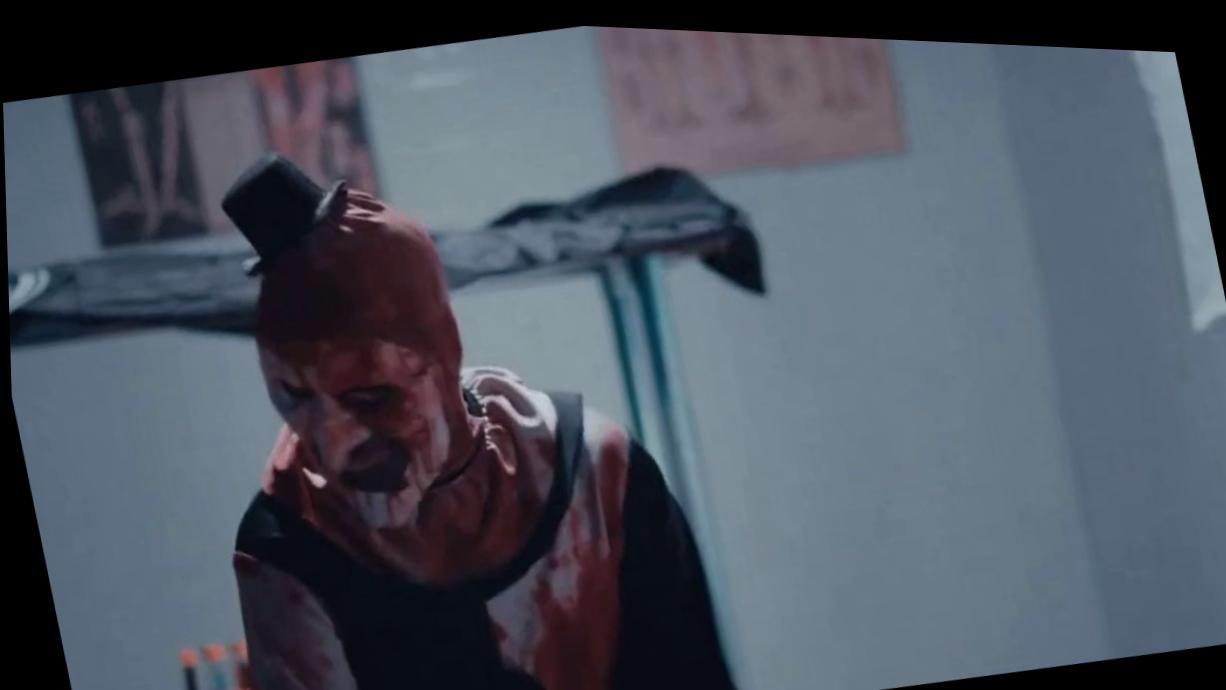Fire: (251, 187, 553, 584), (482, 407, 625, 690), (228, 550, 352, 690)
